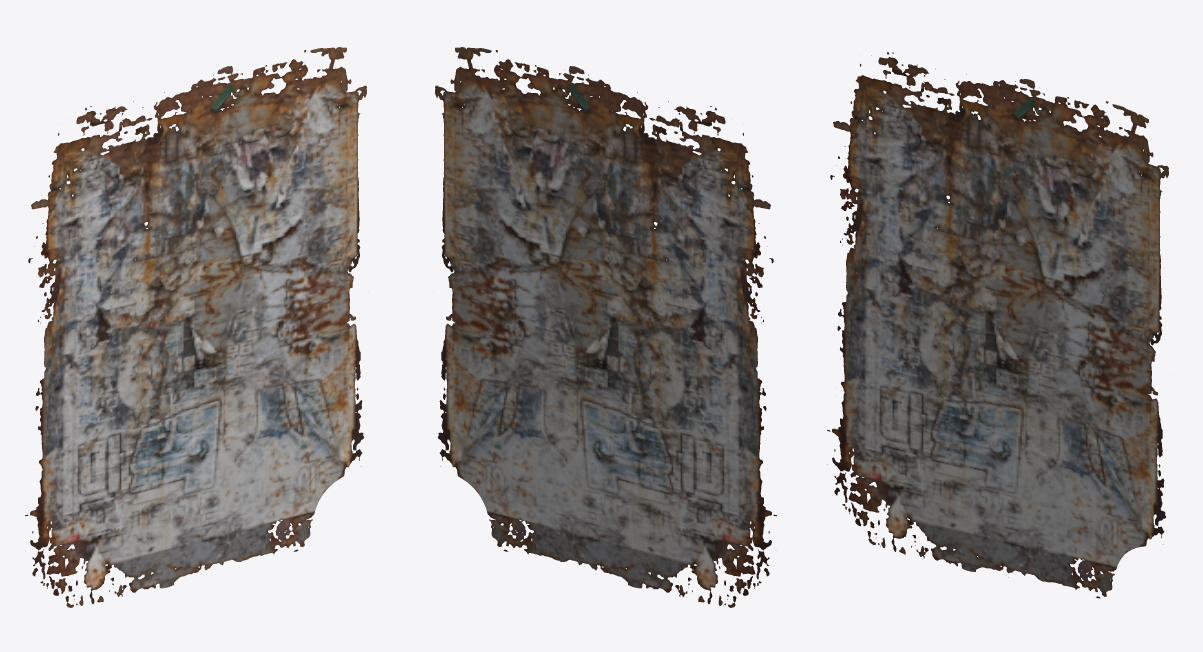
Rendered from store_poster_1.fbx.
3 renders of one model, left to right at view 1: azimuth 30°, elevation 25°; view 2: azimuth 150°, elevation 25°; view 3: azimuth 330°, elevation 25°, orthographic.
Visible parts, largest first — view 1: store_poster_1; view 2: store_poster_1; view 3: store_poster_1.
Boxes of the visible parts, <box> form: store_poster_1: <box>25,47,366,607</box>; store_poster_1: <box>435,47,776,607</box>; store_poster_1: <box>827,52,1168,598</box>.
Bounding box in the file's own units: 50.11 × 68.48 × 1.8e-05.
1 material, 1 textured.
